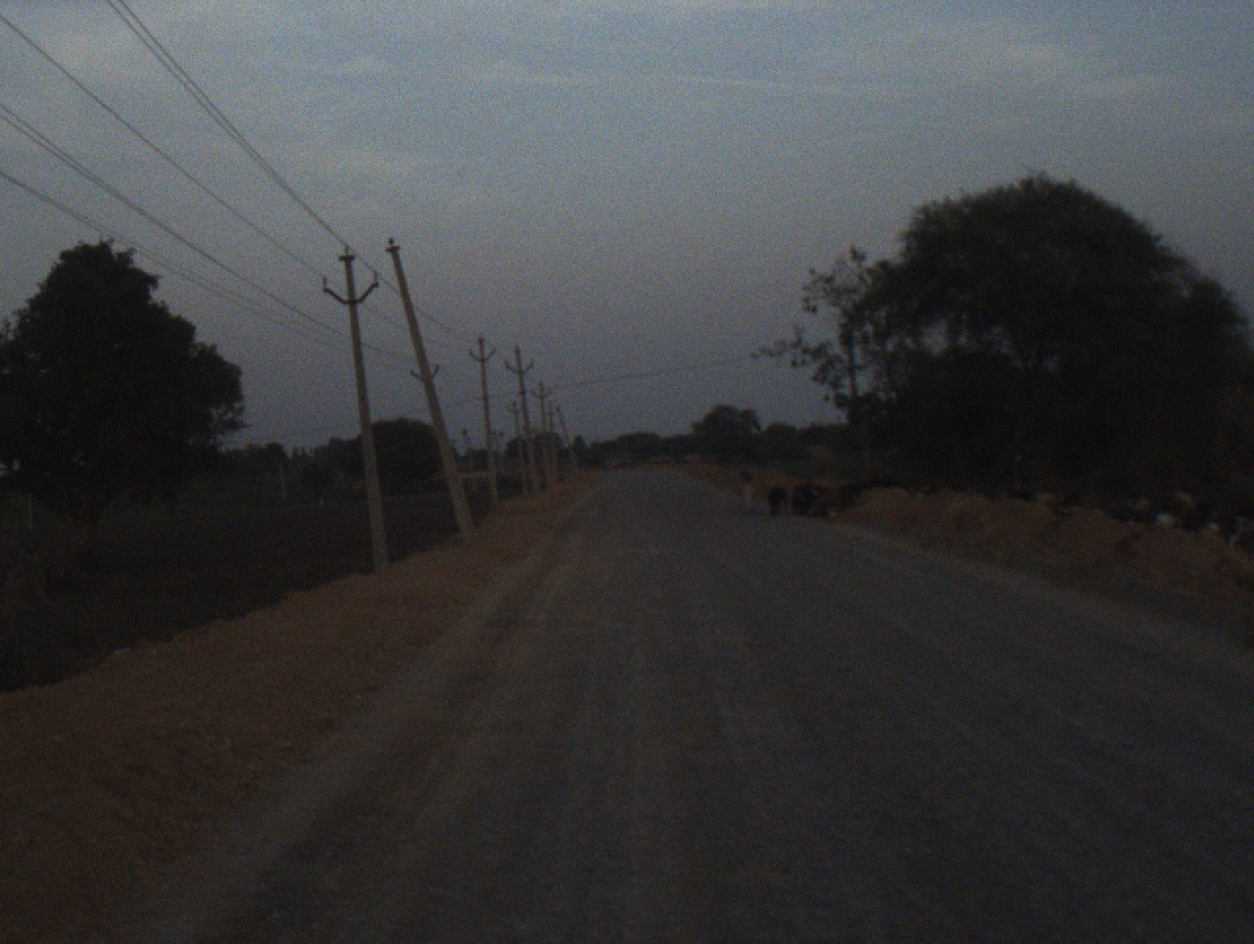animal: (1094, 492, 1174, 522), (797, 476, 834, 518), (988, 479, 1055, 502), (1187, 517, 1239, 542), (769, 474, 789, 520)
person: (735, 452, 760, 518)
